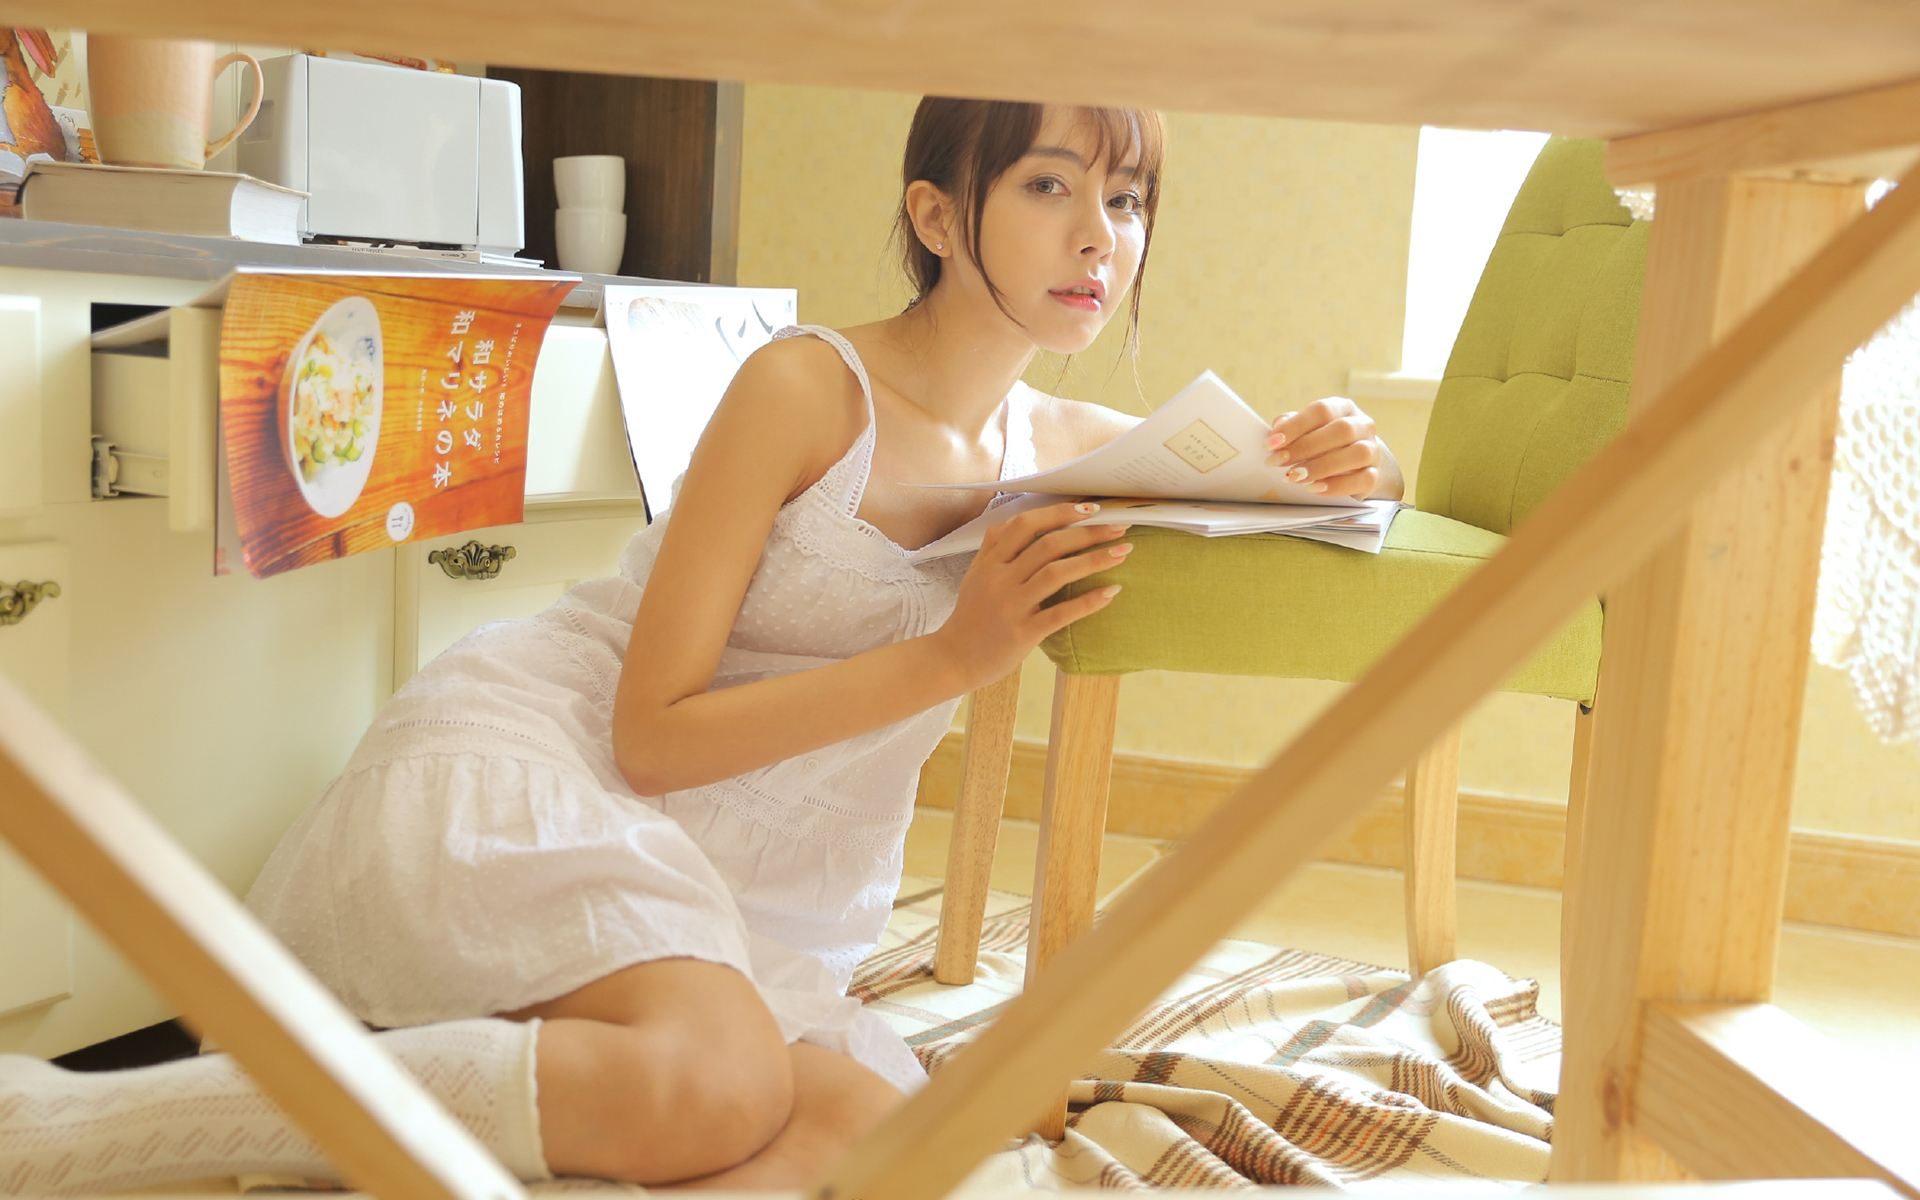person: (668, 44, 1398, 776)
